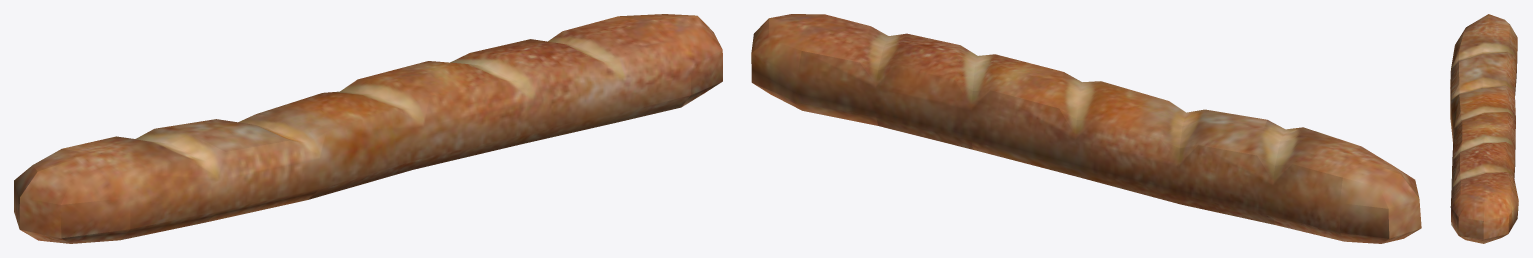
File: BreadVariety_1.fbx
The picture shows the model from 3 angles, left to right: view 1: azimuth 30°, elevation 25°; view 2: azimuth 150°, elevation 25°; view 3: azimuth 270°, elevation 25°; orthographic projection. The views are drawn at different scales.
Parts seen in each view (by area): view 1: BreadVariety_1; view 2: BreadVariety_1; view 3: BreadVariety_1.
Part boxes in pixels (<box>): BreadVariety_1: <box>14,14,722,243</box>; BreadVariety_1: <box>751,14,1421,243</box>; BreadVariety_1: <box>1450,14,1518,243</box>.
Bounding box in the file's own units: 0.7982 × 0.0885 × 0.1157.
